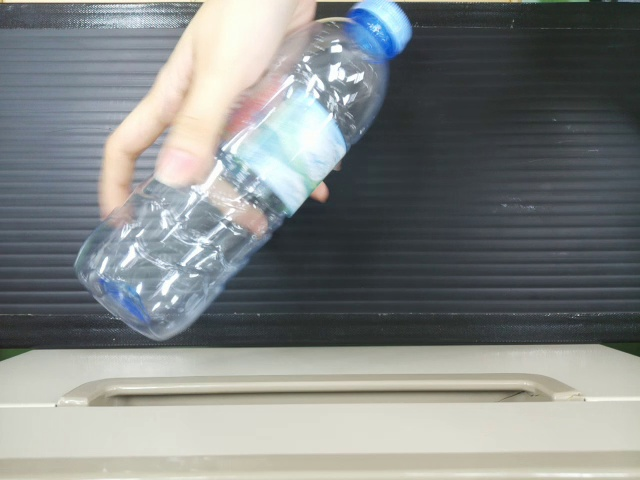bottle: (71, 4, 418, 342)
